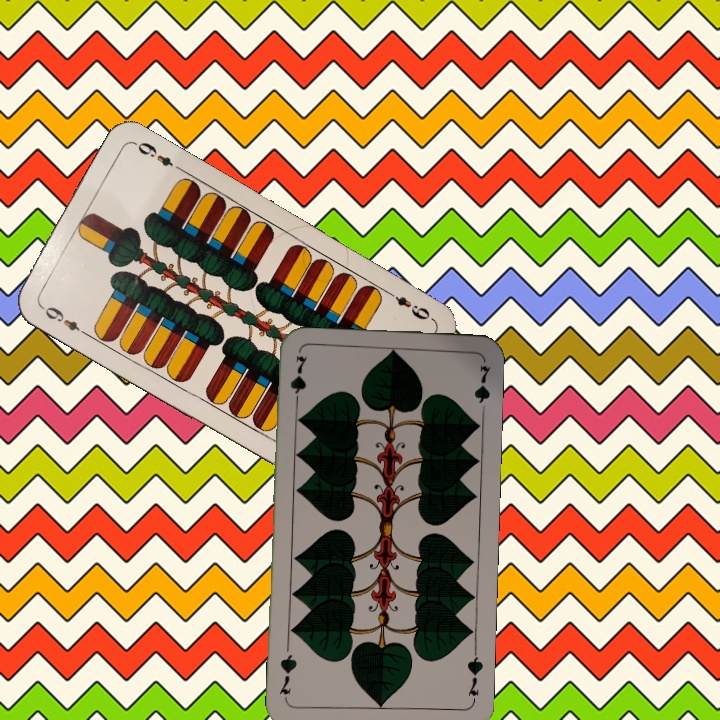E9: (380, 285, 433, 323), (36, 301, 89, 338)
G7: (286, 352, 310, 411), (463, 647, 486, 706)
